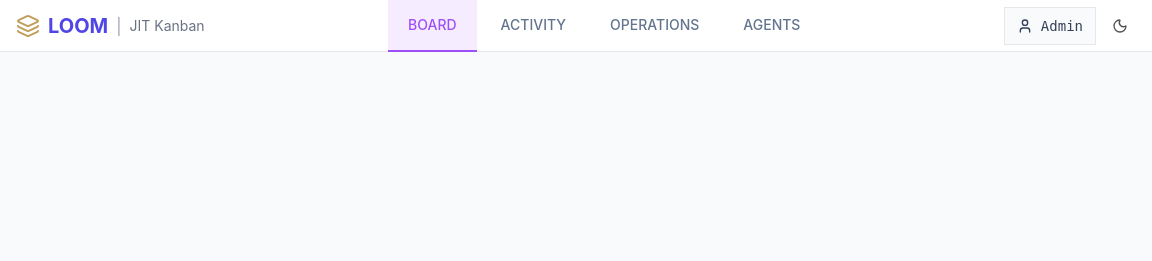
Test: TopNav › when admin › shows the Users link in the dropdown
Click the button named "User menu": (1050, 26) [1004,6,1096,44]
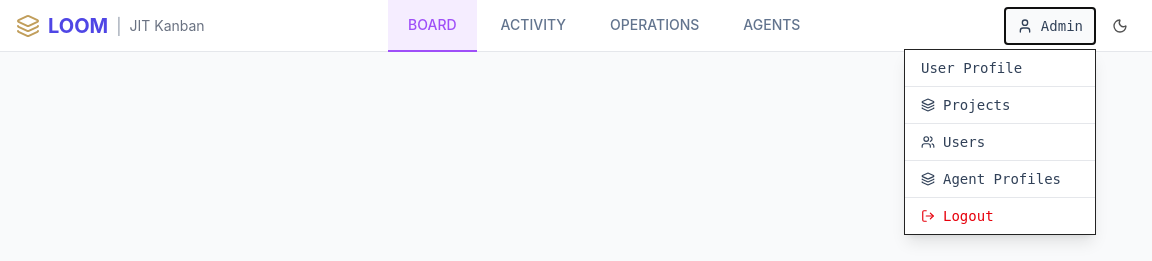
expect the text "Users" is shown: met, box [943,132,985,152]
expect the icon with class "lucide-users" is shown: met, box [921,134,935,148]
